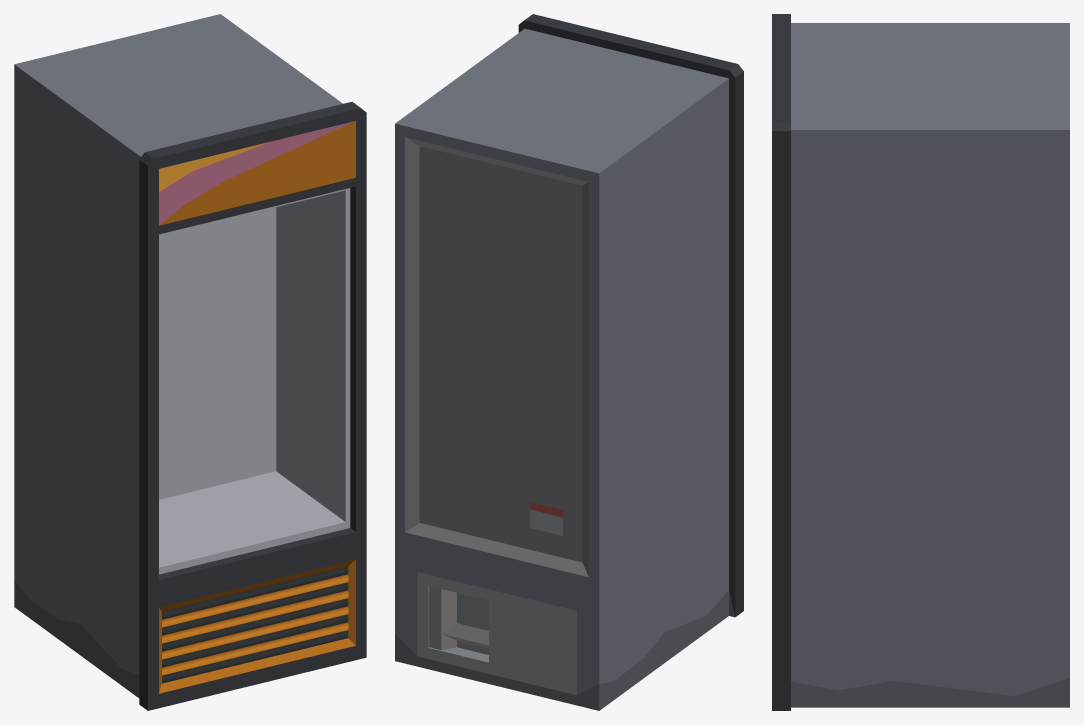
The model's file is SM_Prop_Market_Drinks_Fridge_01.001.obj.
The picture shows the model from 3 angles, left to right: view 1: azimuth 30°, elevation 25°; view 2: azimuth 150°, elevation 25°; view 3: azimuth 270°, elevation 25°; orthographic projection. The views are drawn at different scales.
Visible parts, largest first — view 1: SM_Prop_Market_Drinks_Fridge_01.001_0; view 2: SM_Prop_Market_Drinks_Fridge_01.001_0; view 3: SM_Prop_Market_Drinks_Fridge_01.001_0.
Part boxes in pixels (left/top/right/bottom): SM_Prop_Market_Drinks_Fridge_01.001_0: left=14, top=14, right=366, bottom=710; SM_Prop_Market_Drinks_Fridge_01.001_0: left=395, top=14, right=743, bottom=710; SM_Prop_Market_Drinks_Fridge_01.001_0: left=772, top=14, right=1069, bottom=710.
Size of the model in its own units: 0.9499 by 2.29 by 1.05.
Materials: 1 (1 with a texture image).
